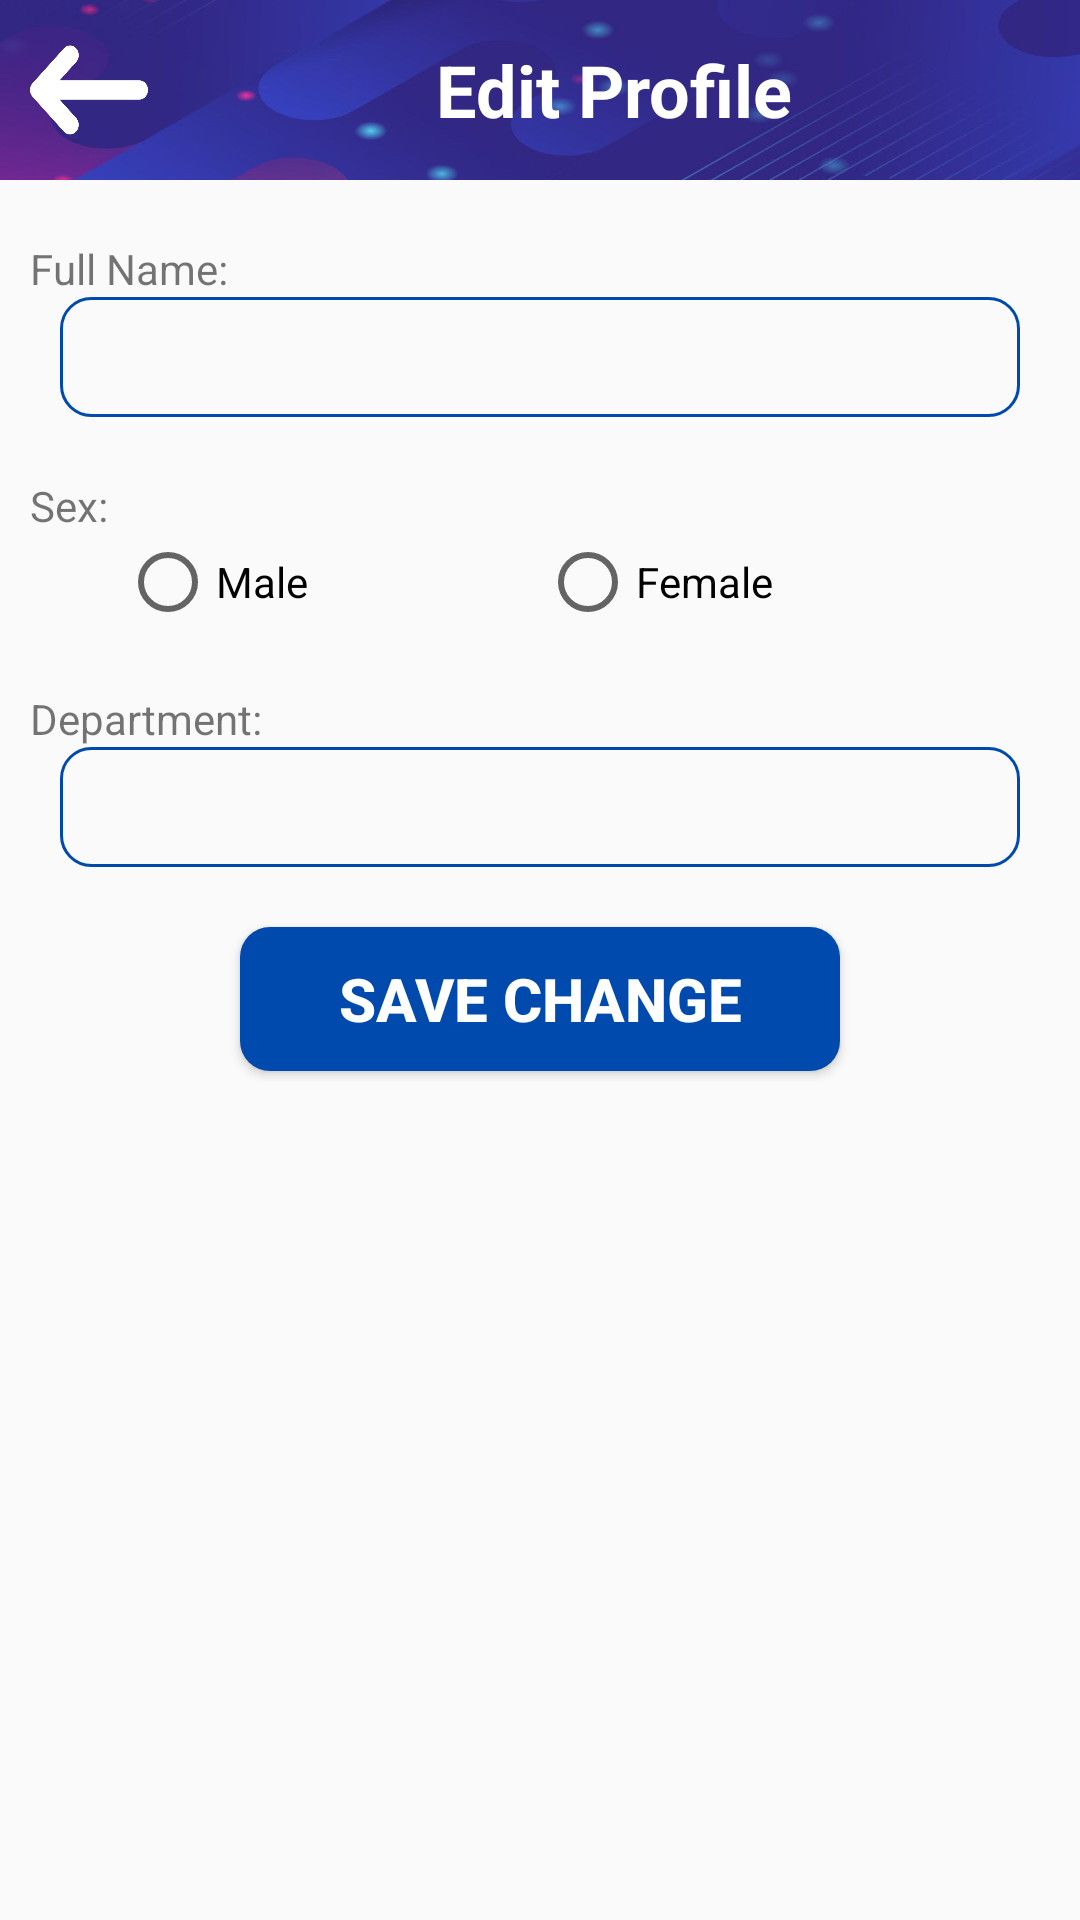

Named icons in this screenshot (1080px×1920px) and their bounding boxes, (x1, y1, x2, y2):
back: (30, 45, 148, 135)
